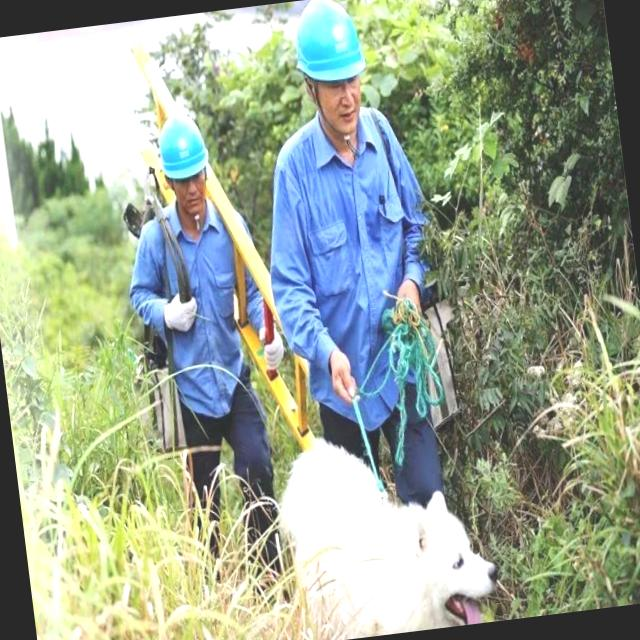helmet: (287, 0, 368, 89), (152, 108, 214, 184)
no-vest: (286, 114, 424, 411), (148, 196, 256, 410)
